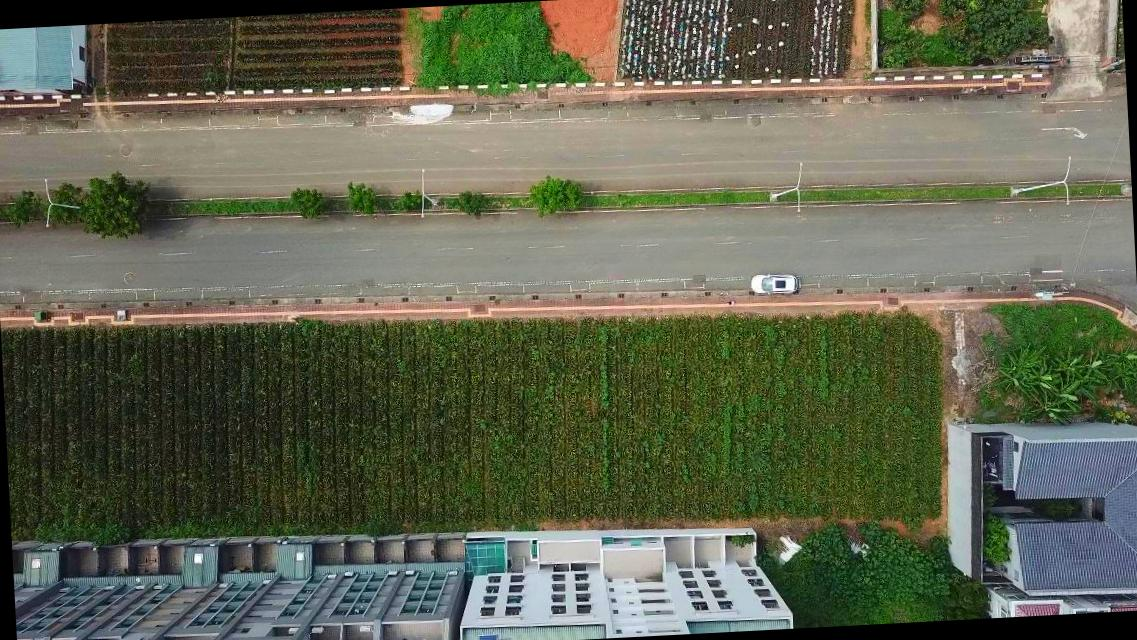vehicle: (748, 272, 804, 296)
